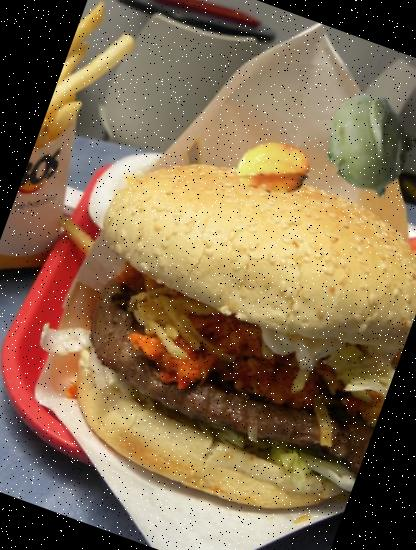Carambula: (225, 121, 320, 216)
Kohlrabi: (300, 75, 416, 216)
